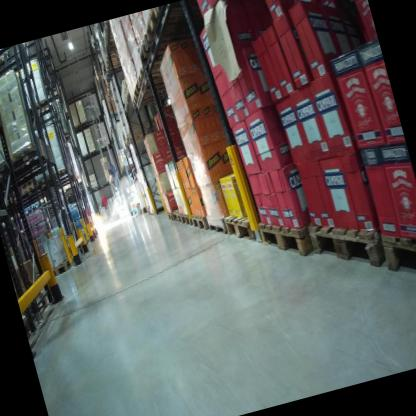pallet: (301, 199, 388, 288), (255, 204, 326, 277), (137, 0, 214, 49), (372, 211, 416, 291), (132, 22, 196, 75), (130, 51, 188, 88), (221, 205, 266, 250), (23, 285, 59, 336), (124, 69, 178, 102), (129, 83, 177, 111), (41, 250, 78, 282), (19, 302, 41, 347), (204, 209, 228, 241), (170, 200, 195, 225), (9, 140, 36, 163), (31, 94, 55, 118), (189, 209, 212, 234), (123, 120, 152, 139), (122, 129, 152, 147), (0, 156, 15, 180), (19, 179, 39, 197), (163, 206, 176, 226), (101, 34, 116, 51), (180, 209, 195, 225), (151, 202, 166, 216), (0, 53, 9, 71), (102, 19, 114, 31), (72, 122, 81, 129)
